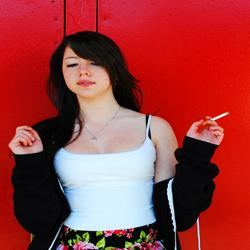cigarro: (206, 104, 234, 124)
fumador: (11, 22, 246, 237)
